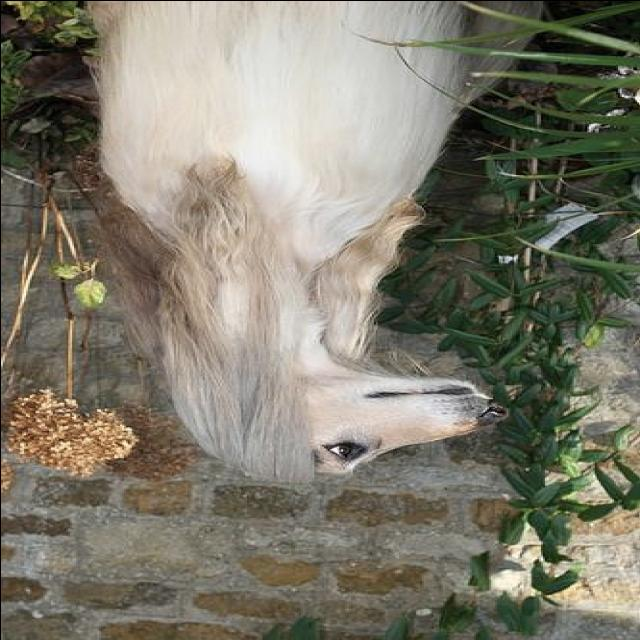afghan_hound: (87, 2, 540, 490)
